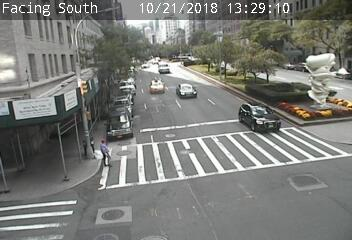car: (239, 103, 280, 133), (176, 83, 195, 99), (149, 78, 163, 94), (158, 63, 169, 74)
